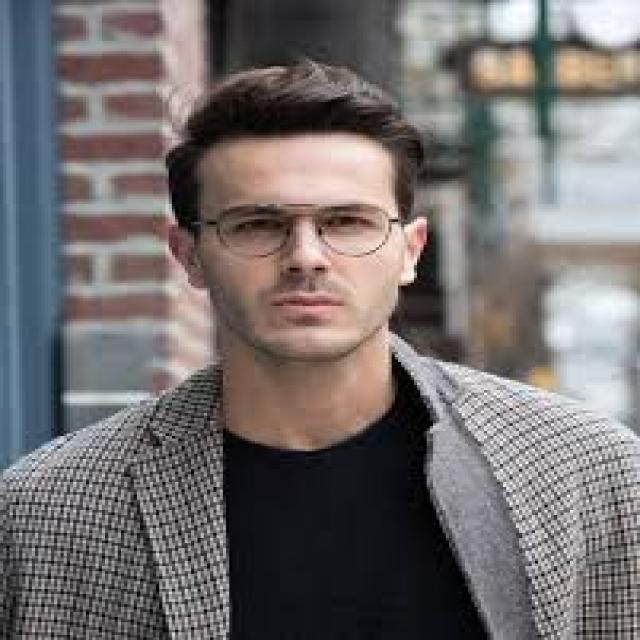specticles: (172, 201, 428, 265)
